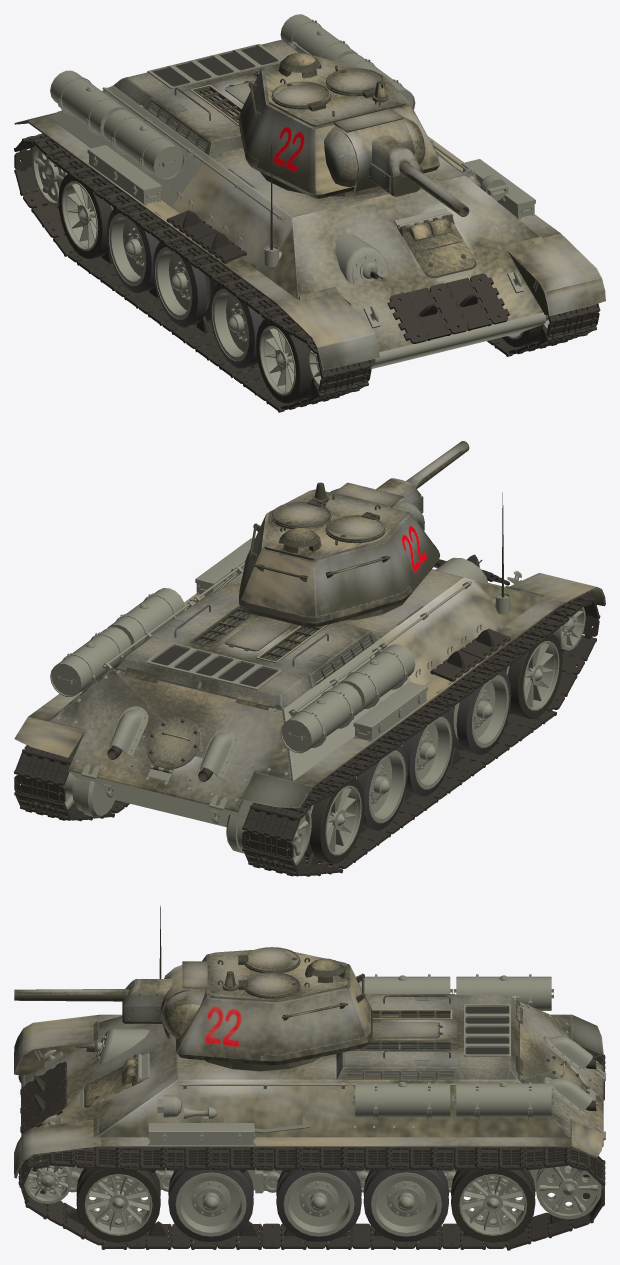
The model's file is soviet_t-3476_medium_tank_mod._1942.glb.
3 views of the same model, one above another, from view 1: azimuth 30°, elevation 25°; view 2: azimuth 150°, elevation 25°; view 3: azimuth 270°, elevation 25° (orthographic). The views are drawn at different scales.
Parts seen in each view (by area): view 1: pPlane533, polySurface31769, polySurface31782, pPlane532, polySurface80, polySurface47, polySurface31768, polySurface98, polySurface163, polySurface31812, polySurface31774, polySurface53 (+28 smaller); view 2: pPlane40, polySurface31769, polySurface98, polySurface31782, pPlane532, polySurface119, polySurface153, polySurface31811, polySurface31812, polySurface31774, polySurface52, polySurface120 (+32 smaller); view 3: pPlane381, polySurface31769, polySurface80, polySurface98, pPlane533, polySurface172, polySurface162, polySurface152, polySurface31809, polySurface31810, polySurface31782, pPlane40 (+54 smaller).
Boxes of the visible parts, x1=… form: pPlane533: x1=292, y1=175, x2=542, y2=352; polySurface31769: x1=239, y1=67, x2=439, y2=198; polySurface31782: x1=14, y1=112, x2=379, y2=369; pPlane532: x1=172, y1=156, x2=298, y2=299; polySurface80: x1=428, y1=136, x2=605, y2=316; polySurface47: x1=387, y1=273, x2=509, y2=343; polySurface31768: x1=339, y1=119, x2=469, y2=216; polySurface98: x1=143, y1=72, x2=256, y2=155; polySurface163: x1=153, y1=242, x2=216, y2=326; polySurface31812: x1=256, y1=319, x2=314, y2=403; polySurface31774: x1=264, y1=55, x2=405, y2=124; polySurface53: x1=103, y1=109, x2=184, y2=179; pPlane40: x1=48, y1=667, x2=293, y2=812; polySurface31769: x1=239, y1=493, x2=439, y2=627; polySurface98: x1=147, y1=592, x2=378, y2=688; polySurface31782: x1=239, y1=573, x2=605, y2=808; pPlane532: x1=380, y1=577, x2=543, y2=685; polySurface119: x1=116, y1=636, x2=310, y2=710; polySurface153: x1=447, y1=670, x2=511, y2=754; polySurface31811: x1=303, y1=779, x2=364, y2=863; polySurface31812: x1=504, y1=634, x2=562, y2=718; polySurface31774: x1=264, y1=489, x2=405, y2=558; polySurface52: x1=280, y1=683, x2=361, y2=753; polySurface120: x1=147, y1=643, x2=282, y2=690; pPlane381: x1=97, y1=1079, x2=569, y2=1137; polySurface31769: x1=175, y1=954, x2=372, y2=1071; polySurface80: x1=14, y1=1116, x2=603, y2=1178; polySurface98: x1=335, y1=994, x2=462, y2=1079; pPlane533: x1=25, y1=1016, x2=176, y2=1135; polySurface172: x1=363, y1=1156, x2=448, y2=1241; polySurface162: x1=276, y1=1162, x2=361, y2=1241; polySurface152: x1=168, y1=1162, x2=253, y2=1241; polySurface31809: x1=76, y1=1152, x2=160, y2=1242; polySurface31810: x1=451, y1=1162, x2=535, y2=1242; polySurface31782: x1=14, y1=1014, x2=603, y2=1075; pPlane40: x1=518, y1=1001, x2=603, y2=1145.
Size of the model in its own units: 3.31 by 2.65 by 6.23.
Materials: 7 (3 with a texture image).
